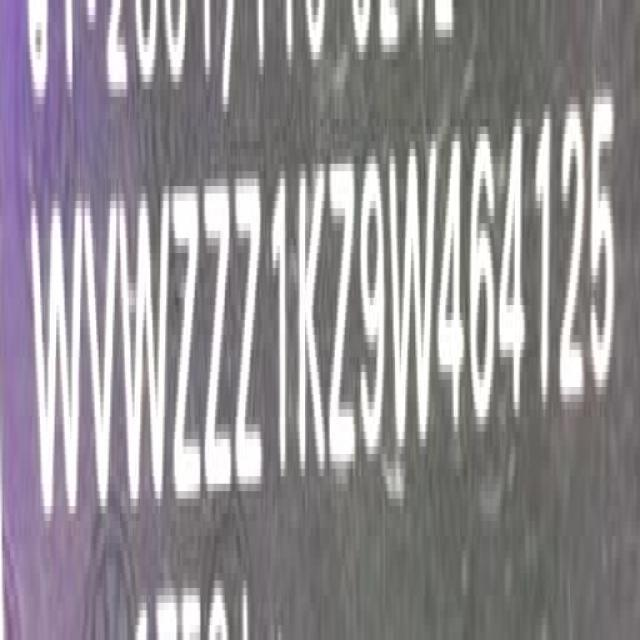1: (267, 159, 291, 496), (533, 102, 552, 428)
2: (556, 95, 586, 423)
4: (436, 127, 465, 452), (501, 111, 529, 437)
5: (592, 81, 620, 408)
6: (470, 120, 498, 440)
9: (361, 148, 388, 472)
K: (296, 158, 326, 494)
V: (84, 204, 120, 526)
W: (33, 192, 80, 540), (386, 146, 436, 452), (125, 192, 168, 524)
Z: (173, 185, 203, 514), (234, 162, 262, 507), (328, 147, 356, 483), (204, 178, 232, 512)
